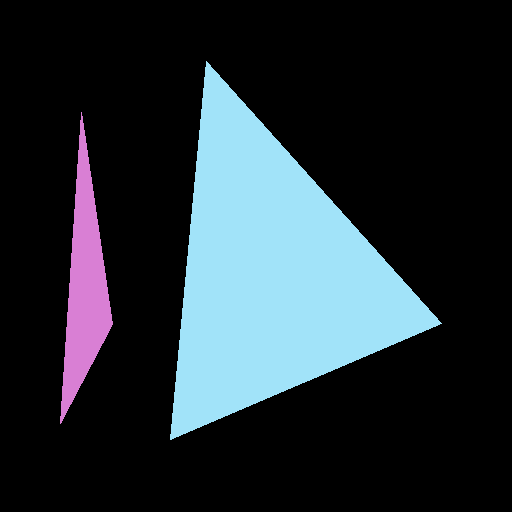triangle: (170, 61, 441, 439), (60, 112, 112, 423)
